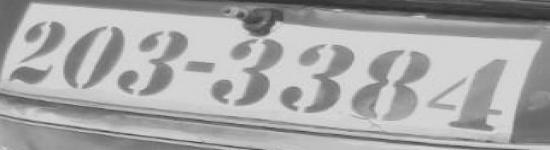-: (177, 56, 226, 79)
0: (47, 19, 142, 98)
2: (0, 13, 82, 92)
3: (96, 22, 206, 105), (266, 35, 371, 121), (198, 32, 299, 116)
4: (412, 47, 528, 137)
8: (336, 42, 450, 127)
